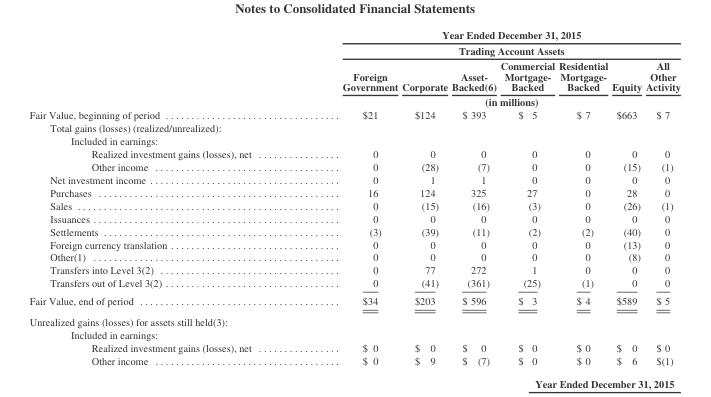table: (28, 28, 679, 366)
table column: (28, 28, 296, 366), (296, 28, 399, 366), (497, 28, 556, 366), (556, 28, 609, 366), (399, 28, 449, 366), (449, 28, 497, 366), (642, 28, 679, 366), (609, 28, 642, 366)
table column header: (28, 28, 679, 108)
table projected row header: (28, 311, 679, 328), (28, 121, 679, 134), (28, 134, 679, 147), (28, 328, 679, 340)
table row: (28, 57, 679, 94), (28, 28, 679, 57), (28, 291, 679, 311), (28, 311, 679, 328), (28, 276, 679, 291), (28, 94, 679, 108), (28, 108, 679, 121), (28, 121, 679, 134), (28, 134, 679, 147), (28, 147, 679, 160), (28, 172, 679, 185), (28, 185, 679, 198), (28, 198, 679, 211), (28, 211, 679, 224), (28, 224, 679, 237), (28, 237, 679, 250), (28, 250, 679, 263), (28, 263, 679, 276), (28, 340, 679, 353), (28, 353, 679, 366), (28, 160, 679, 172), (28, 328, 679, 340)
table spanning cell: (296, 28, 679, 57), (296, 94, 679, 108)
